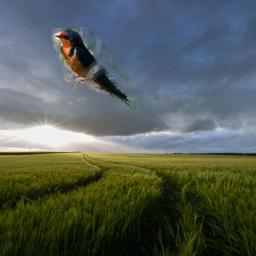Swallow: (52, 27, 136, 109)
